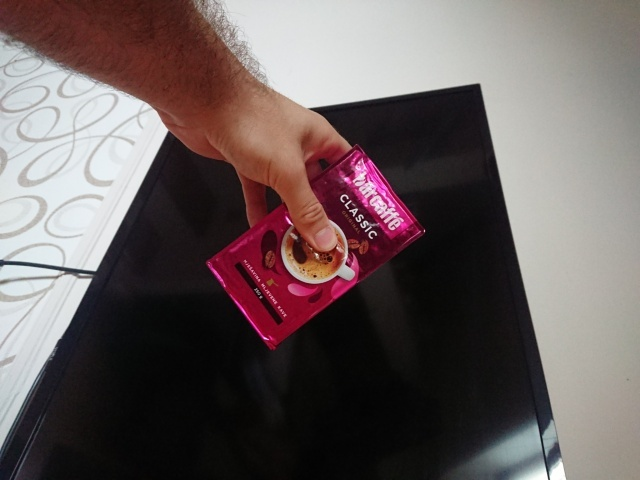Barcaffe Classic Original 225g: (203, 142, 429, 353)
